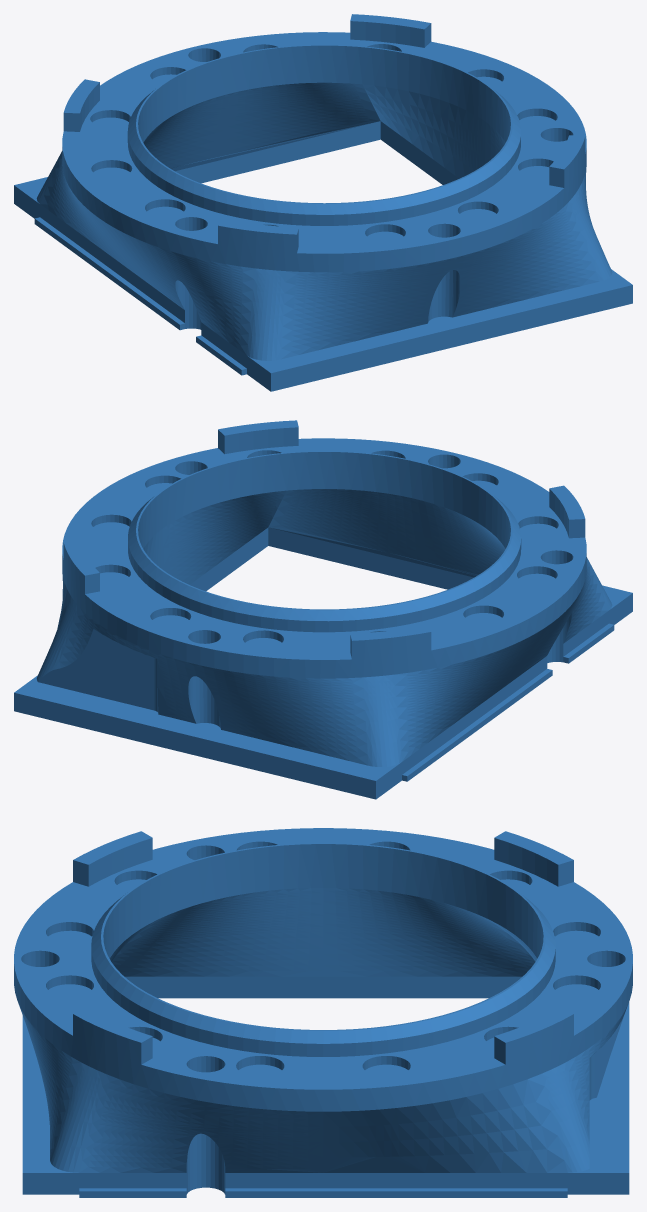
Rendered from window-exhaust-port-base.glb.
3 views of the same model, one above another, from view 1: azimuth 30°, elevation 25°; view 2: azimuth 150°, elevation 25°; view 3: azimuth 270°, elevation 25° (orthographic). The views are drawn at different scales.
Visible parts, largest first — view 1: window-exhaust-port-base; view 2: window-exhaust-port-base; view 3: window-exhaust-port-base.
Boxes of the visible parts, x1,y1,x2,y2 form: window-exhaust-port-base: (14,14,632,391); window-exhaust-port-base: (14,420,632,799); window-exhaust-port-base: (14,828,632,1197).
Bounding box in the file's own units: 0.128 × 0.035 × 0.1279.
